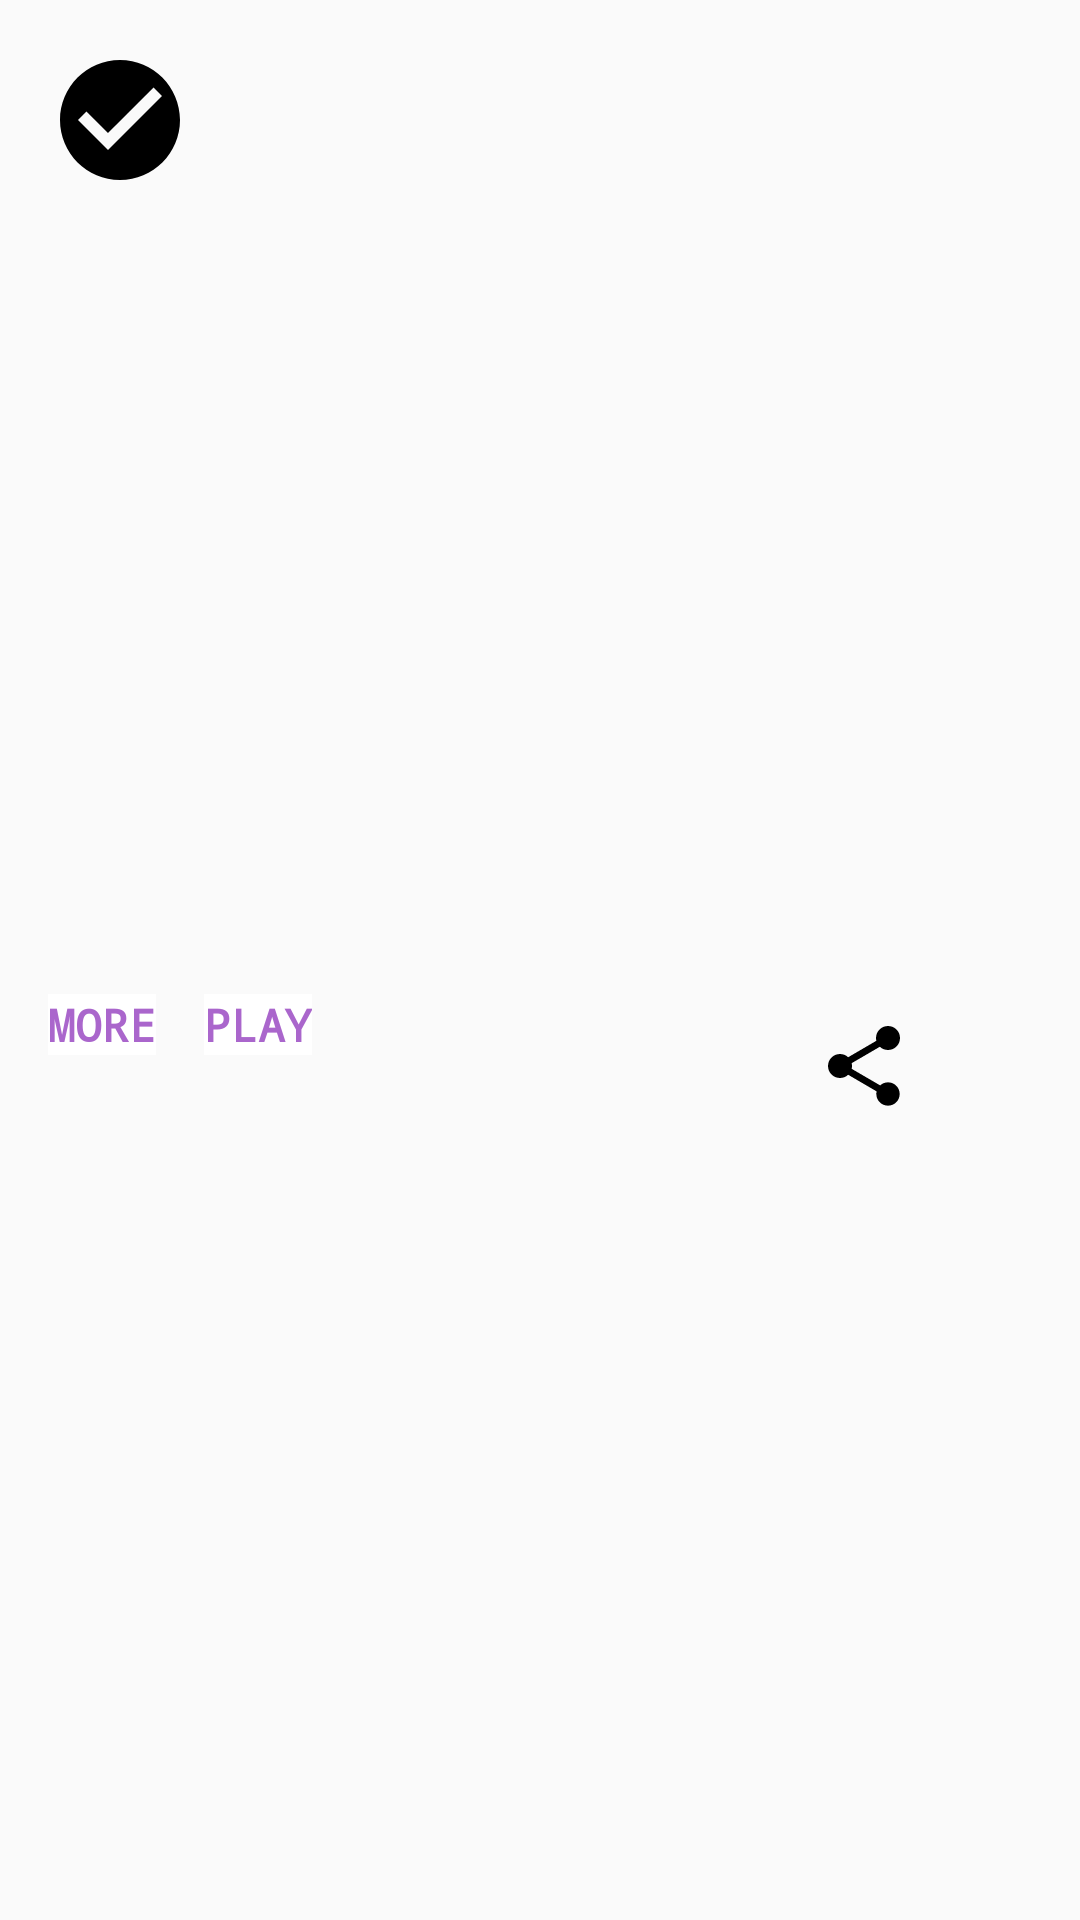

Named icons in this screenshot (1080*1920) and their bounding boxes, [x1,y1,x2,y2]:
checked circle: [60,60,180,180]
share: [828,1026,900,1106]
